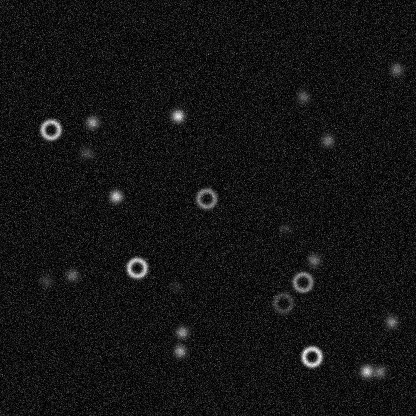Ring: (299, 344, 323, 368), (194, 186, 218, 210), (290, 270, 314, 294), (38, 117, 62, 141), (271, 290, 295, 314), (124, 255, 148, 279)
Spot: (358, 363, 374, 379), (173, 324, 189, 340), (78, 144, 94, 160), (64, 267, 80, 283), (169, 107, 185, 123), (171, 342, 187, 358), (276, 220, 292, 236), (84, 114, 100, 130), (371, 363, 387, 379), (388, 61, 404, 77), (383, 313, 399, 329), (38, 273, 54, 289), (294, 88, 310, 104), (167, 278, 183, 294), (107, 188, 123, 204), (305, 251, 321, 267), (319, 132, 335, 148)
